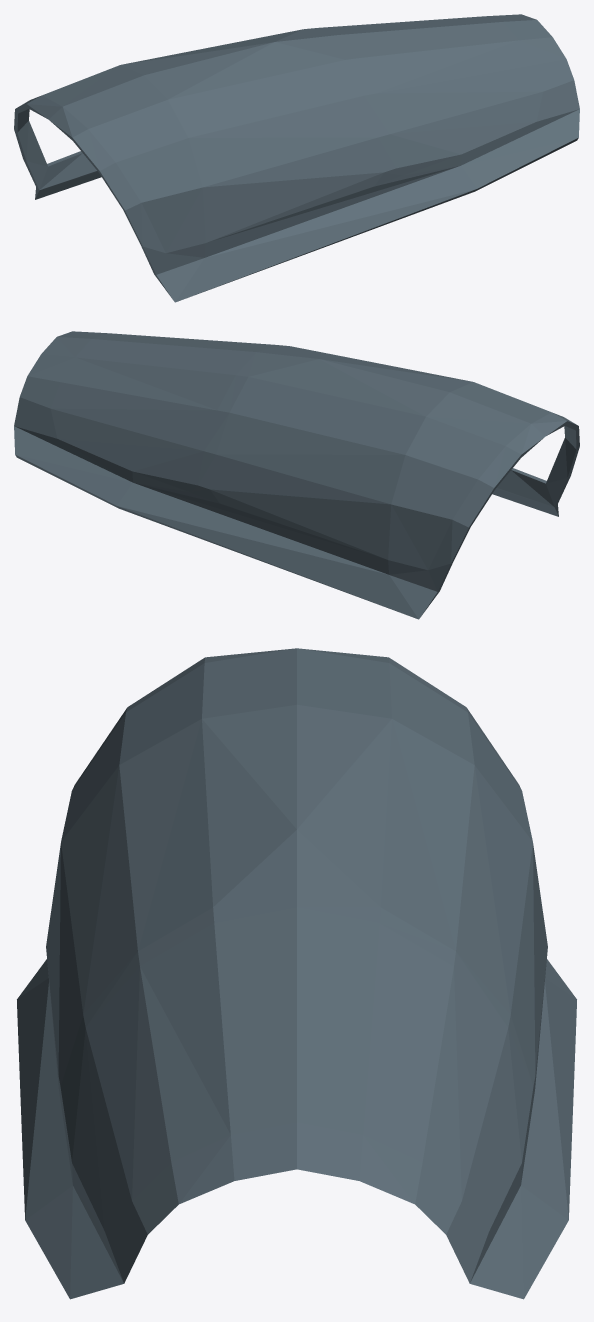
File: su27.glass.glb
The picture shows the model from 3 angles, top to bottom: view 1: azimuth 30°, elevation 25°; view 2: azimuth 150°, elevation 25°; view 3: azimuth 270°, elevation 25°; orthographic projection. The views are drawn at different scales.
Visible parts, largest first — view 1: glass; view 2: glass; view 3: glass.
Boxes of the visible parts, bbox=[...] form: glass: bbox=[14, 14, 579, 302]; glass: bbox=[14, 331, 579, 619]; glass: bbox=[17, 648, 576, 1299].
Size of the model in its own units: 2.09 by 0.6846 by 1.04.
